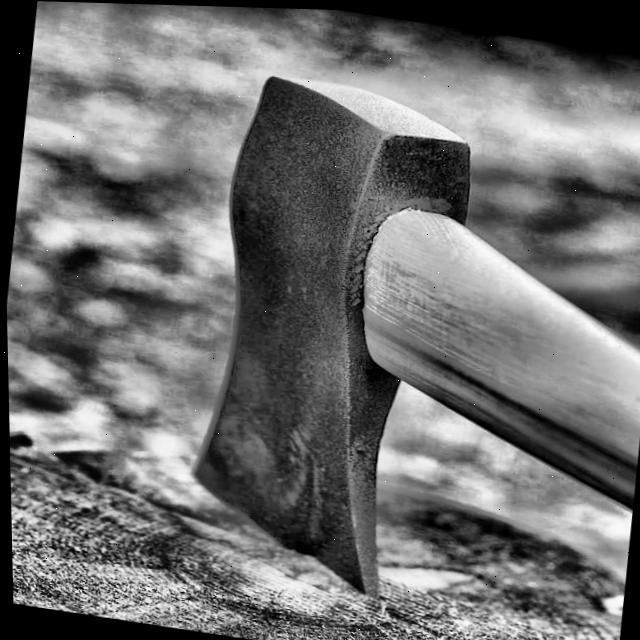kapak: (179, 71, 640, 604)
